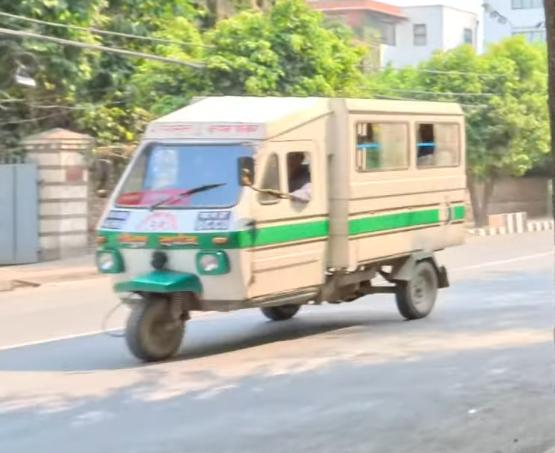tempo: (93, 91, 473, 361)
